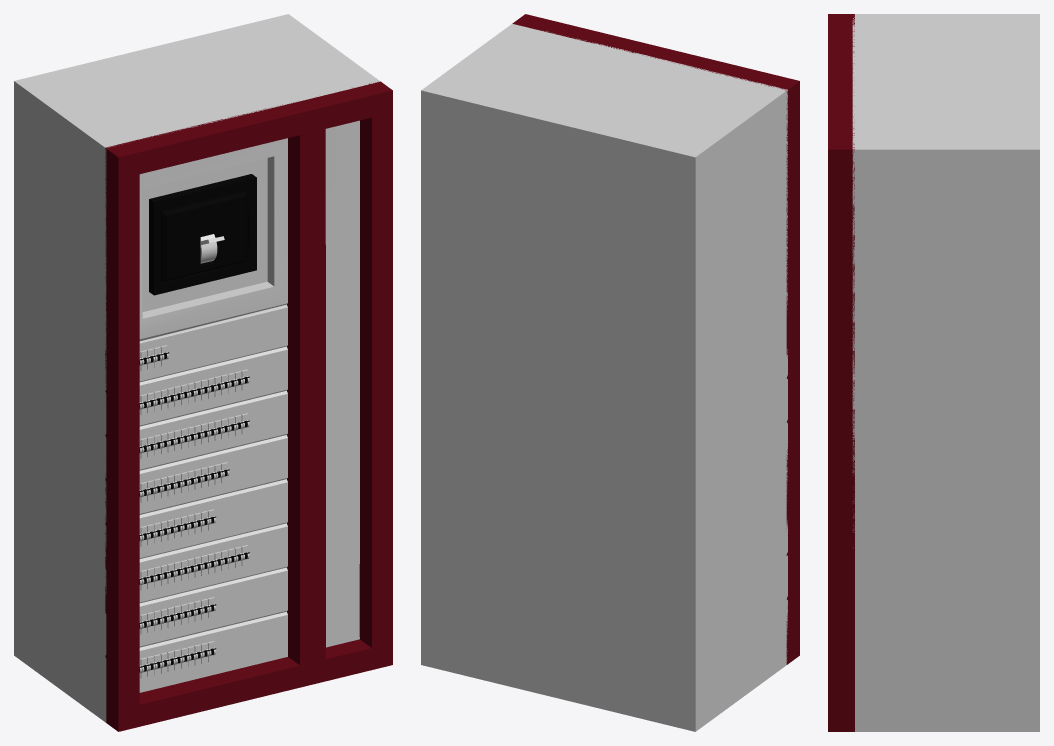
Rendered from S_Disjoncteur2ID.fbx.
3 views of the same model, side by side, from view 1: azimuth 30°, elevation 25°; view 2: azimuth 150°, elevation 25°; view 3: azimuth 270°, elevation 25° (orthographic).
Visible parts, largest first — view 1: 001, 001.001, Cube.077, Cube.076, Cube.079, Cube.075; view 2: 001, 001.001; view 3: 001, 001.001.
Part boxes in pixels (x1,y1,x2,y2): 001: (14, 14, 380, 722); 001.001: (105, 81, 392, 731); Cube.077: (139, 369, 249, 591); Cube.076: (139, 509, 216, 678); Cube.079: (139, 462, 229, 503); Cube.075: (139, 345, 168, 371); 001: (421, 23, 787, 731); 001.001: (512, 14, 799, 664); 001: (852, 14, 1039, 731); 001.001: (828, 14, 854, 731).
Size of the model in its own units: 150 by 300 by 98.86.
